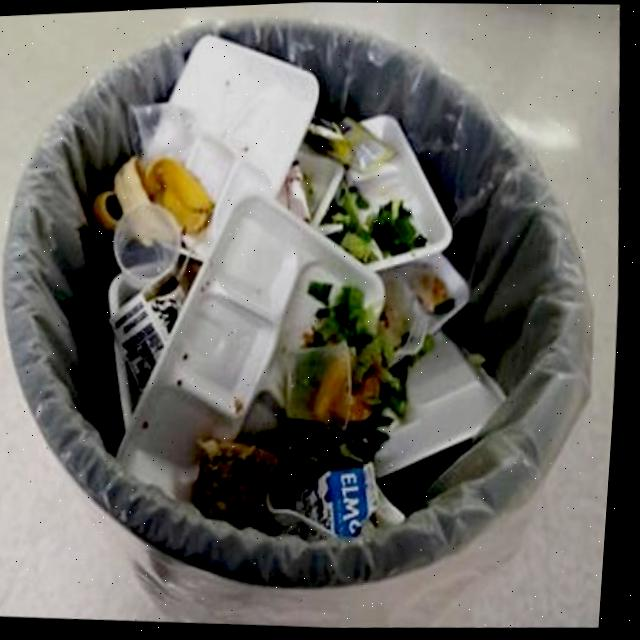Garbage: (93, 41, 509, 544)
